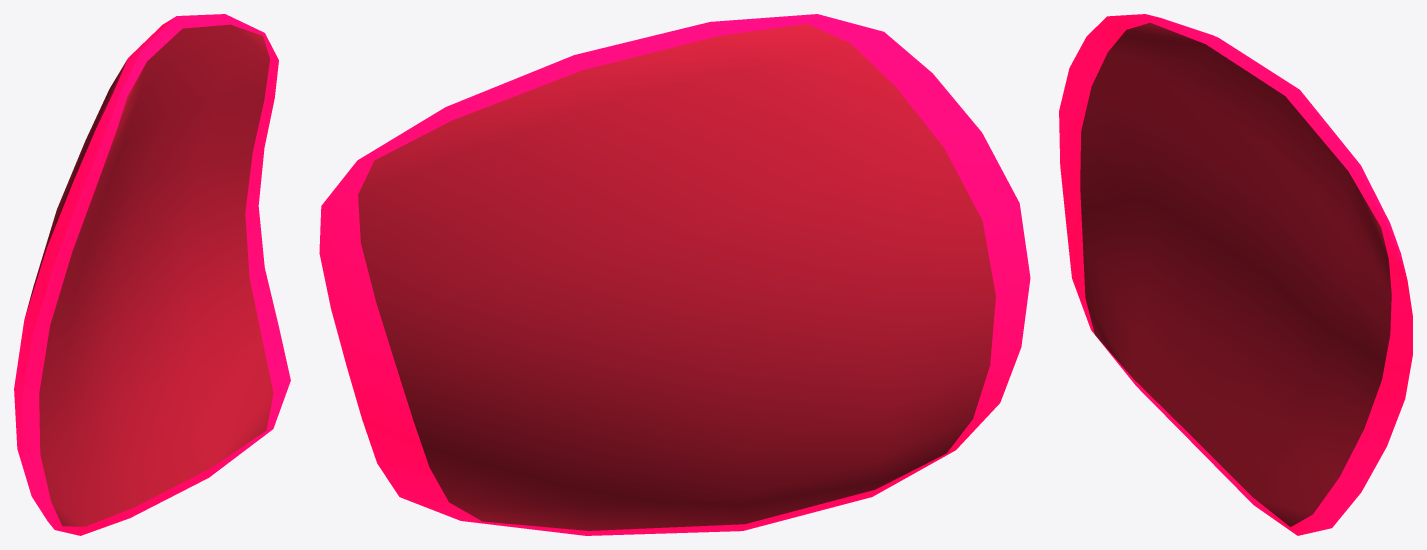
File: petal.glb
3 renders of one model, left to right at view 1: azimuth 30°, elevation 25°; view 2: azimuth 150°, elevation 25°; view 3: azimuth 270°, elevation 25°, orthographic. The views are drawn at different scales.
Parts seen in each view (by area): view 1: Plane.066; view 2: Plane.066; view 3: Plane.066.
Boxes of the visible parts, x1=… form: Plane.066: x1=14, y1=14, x2=290, y2=535; Plane.066: x1=319, y1=14, x2=1030, y2=535; Plane.066: x1=1059, y1=14, x2=1412, y2=535.
Bounding box in the file's own units: 0.283 × 0.2824 × 0.2109.
